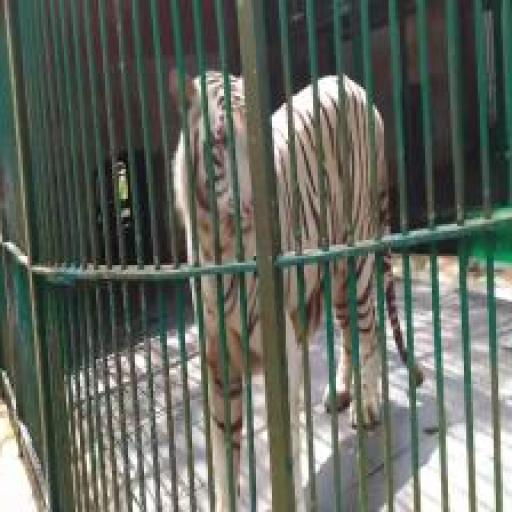Tiger: (142, 11, 436, 512)
